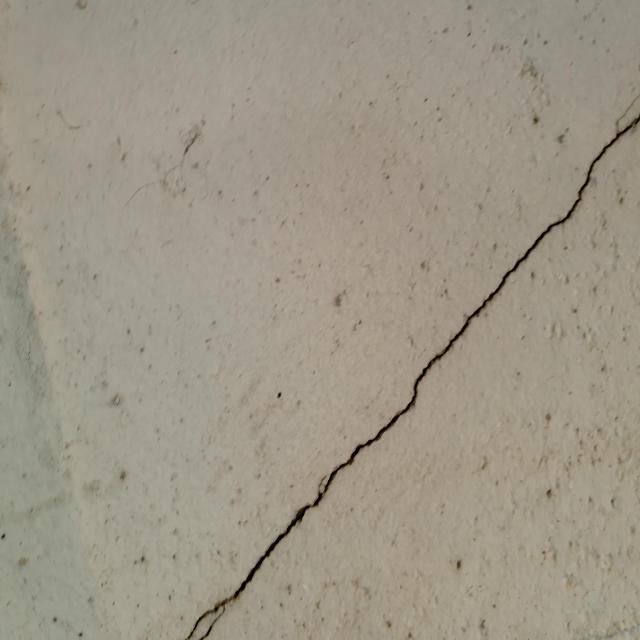SurfaceCrack: (139, 21, 637, 640)
